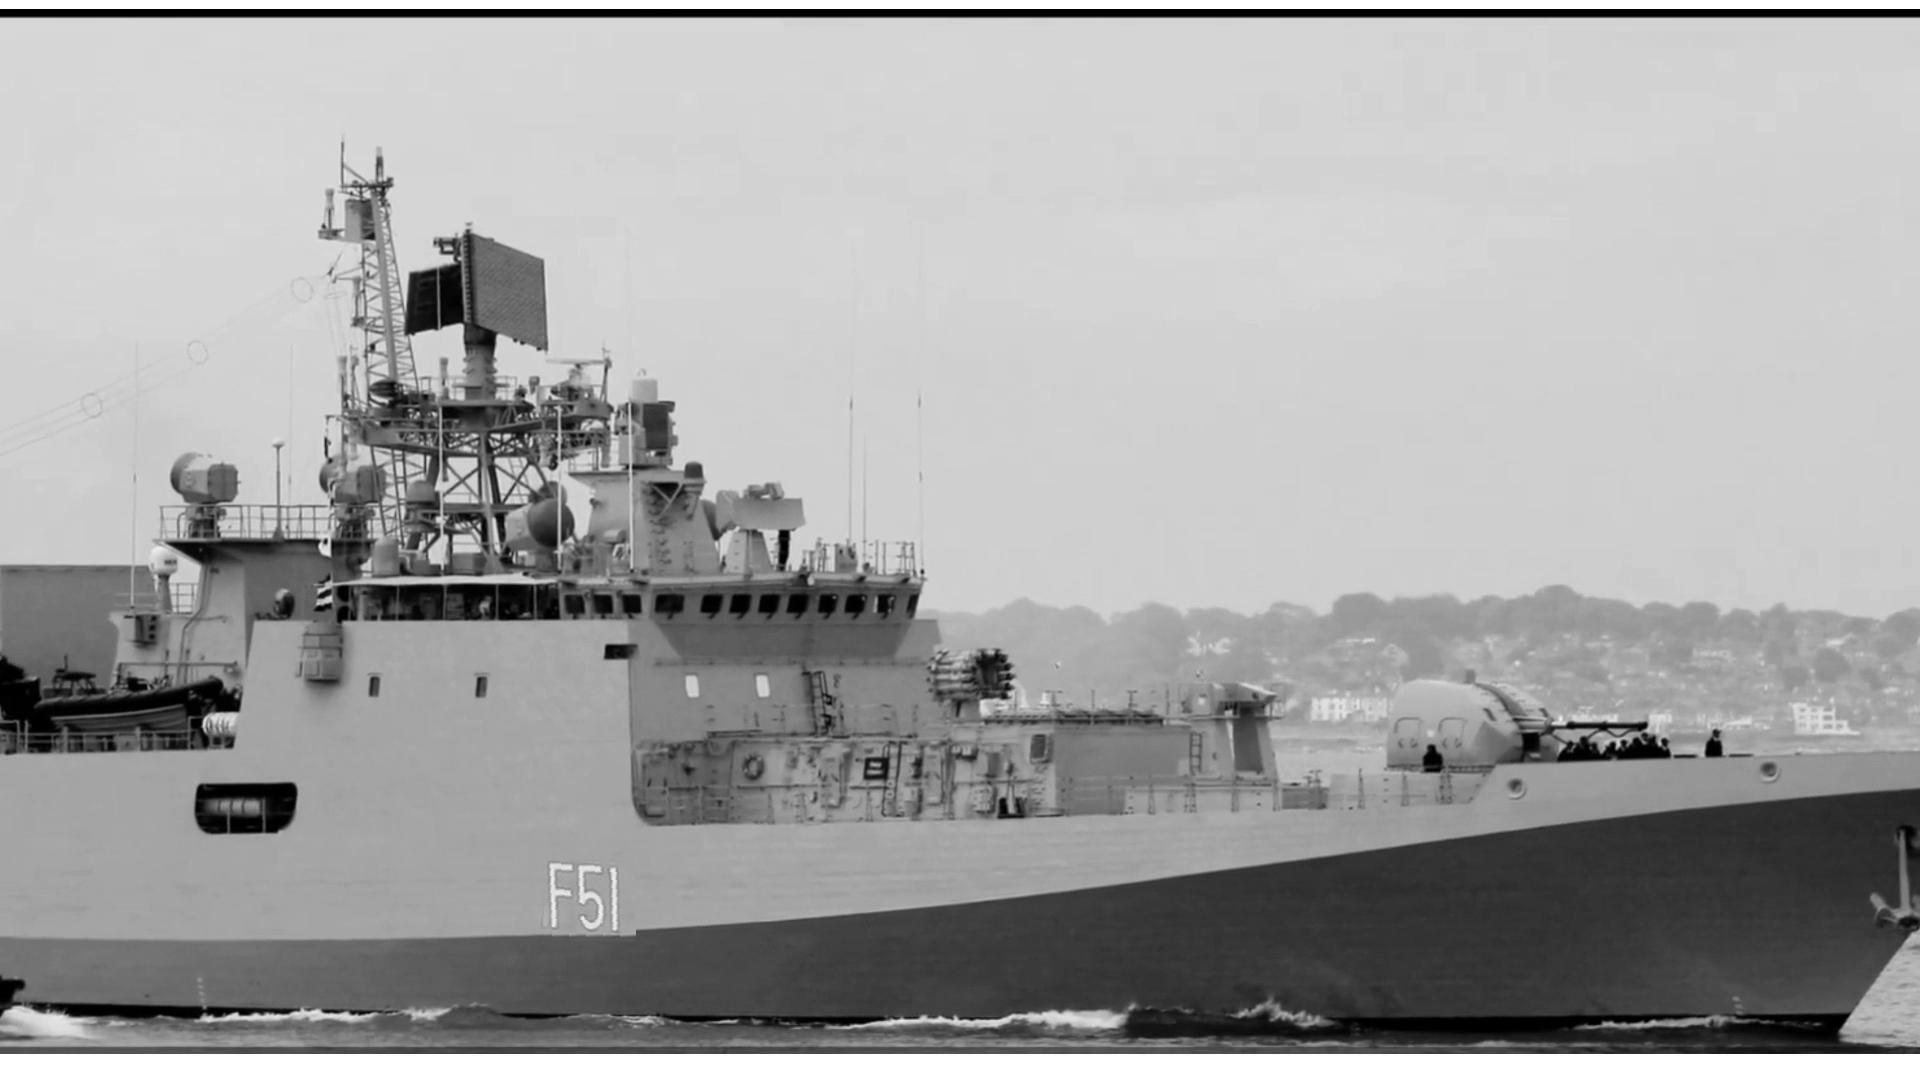OCR: (534, 854, 636, 942)
